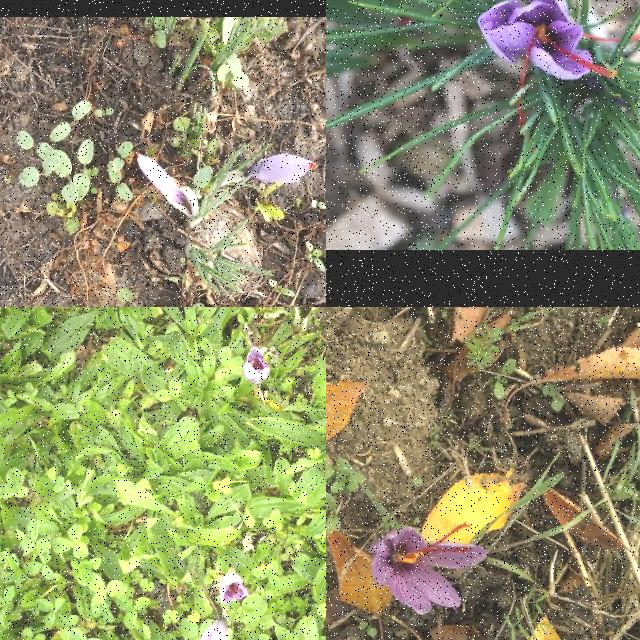flower: (477, 0, 640, 126), (368, 522, 488, 616), (134, 153, 192, 210), (246, 154, 316, 183), (218, 570, 250, 606), (243, 346, 271, 386), (197, 619, 228, 640)
